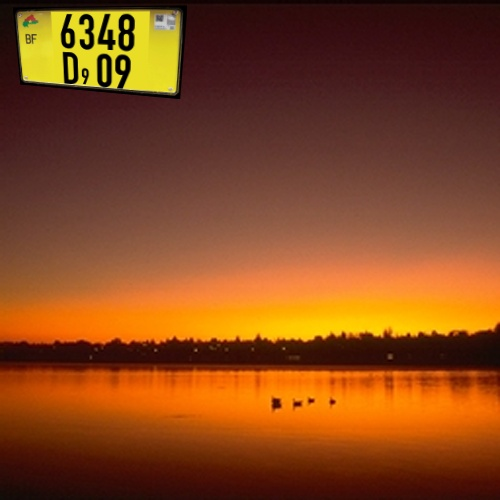plate: (10, 4, 197, 107)
